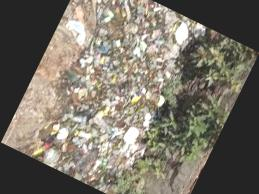Trash: (12, 0, 259, 194)
